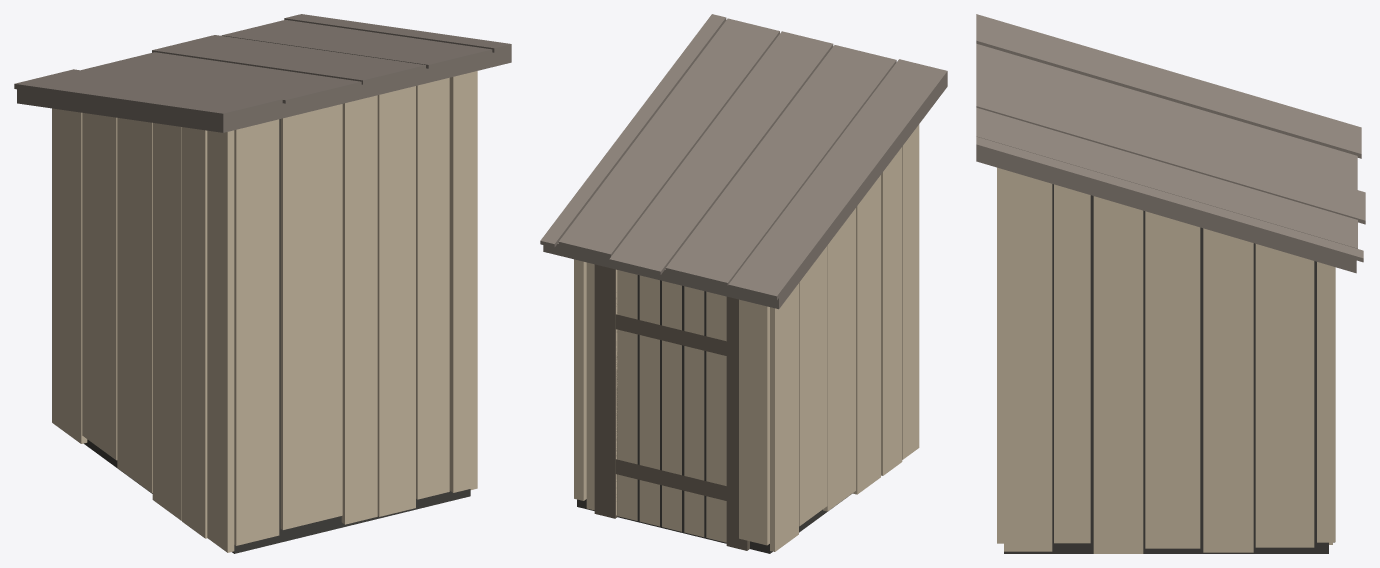
File: recon_1835_south_a3_045__inferred_1835.glb
The picture shows the model from 3 angles, left to right: view 1: azimuth 30°, elevation 25°; view 2: azimuth 150°, elevation 25°; view 3: azimuth 270°, elevation 25°; orthographic projection. The views are drawn at different scales.
Visible parts, largest first — view 1: recon_1835_south_a3_045__inferred_1835; view 2: recon_1835_south_a3_045__inferred_1835; view 3: recon_1835_south_a3_045__inferred_1835.
Boxes of the visible parts, x1=… form: recon_1835_south_a3_045__inferred_1835: x1=14, y1=14, x2=511, y2=553; recon_1835_south_a3_045__inferred_1835: x1=540, y1=14, x2=947, y2=553; recon_1835_south_a3_045__inferred_1835: x1=976, y1=14, x2=1365, y2=553.
Size of the model in its own units: 1.82 by 2.76 by 2.31.
